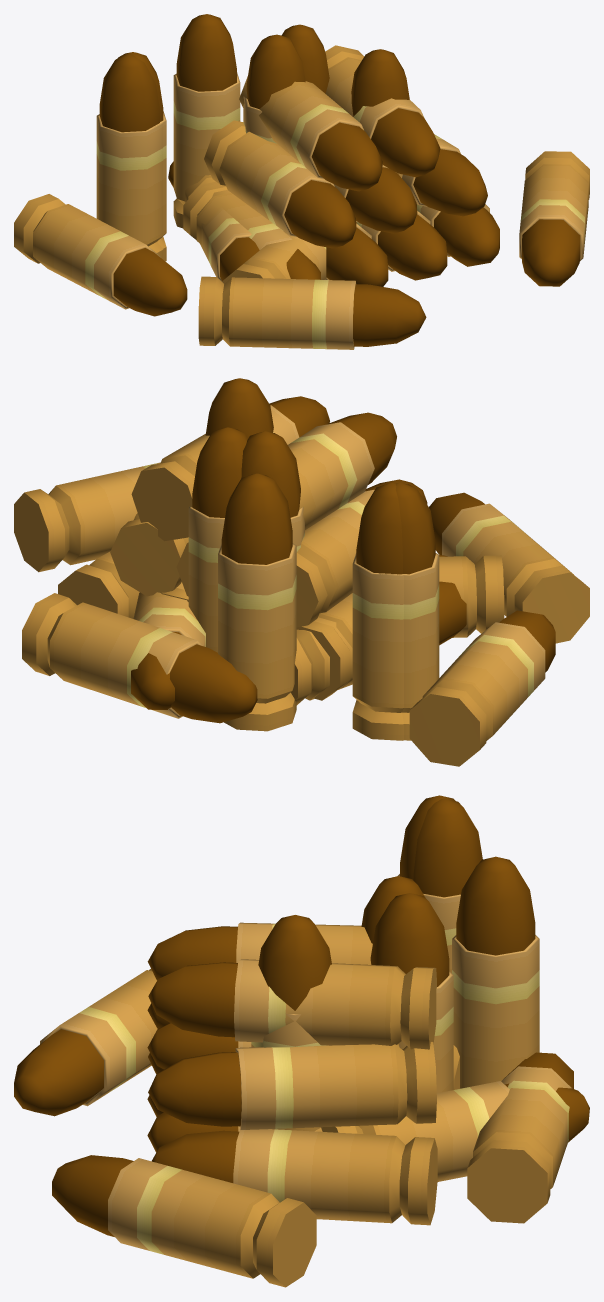
File: Ammo.fbx
The picture shows the model from 3 angles, top to bottom: view 1: azimuth 30°, elevation 25°; view 2: azimuth 150°, elevation 25°; view 3: azimuth 270°, elevation 25°; orthographic projection. The views are drawn at different scales.
Parts seen in each view (by area): view 1: Ammo_Big, Ammo_Medium, Ammo_Small; view 2: Ammo_Big, Ammo_Medium, Ammo_Small; view 3: Ammo_Big, Ammo_Medium, Ammo_Small.
Boxes of the visible parts, box(x1,y1,x2,y2) form: Ammo_Big: box(96, 45, 589, 349); Ammo_Medium: box(14, 14, 356, 316); Ammo_Small: box(185, 24, 409, 281); Ammo_Big: box(14, 396, 589, 740); Ammo_Medium: box(131, 431, 555, 766); Ammo_Small: box(188, 378, 466, 705); Ammo_Big: box(14, 795, 573, 1287); Ammo_Medium: box(321, 798, 589, 1181); Ammo_Small: box(251, 893, 459, 1131).
Size of the model in its own units: 12.38 by 5 by 10.05.
